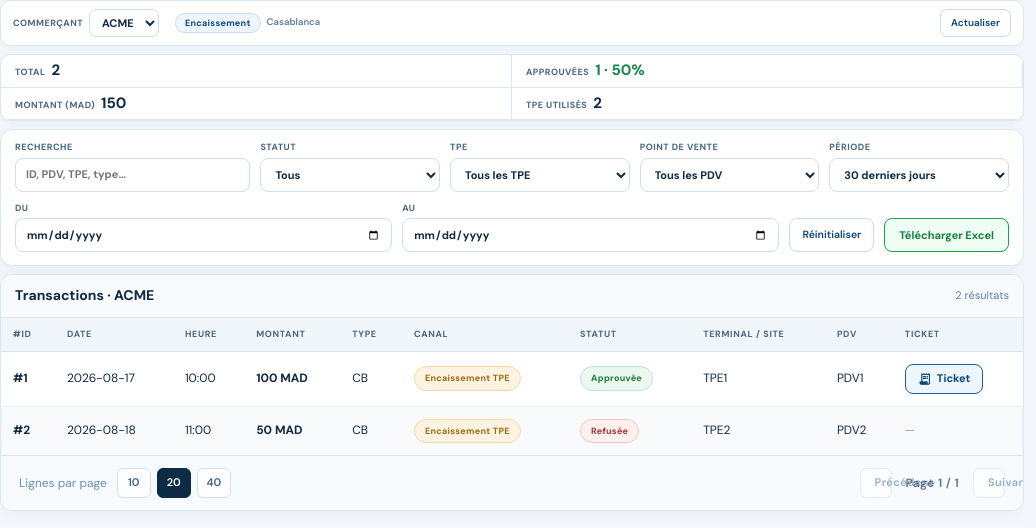
SupervisorTransactionsPage › filtre par recherche texte et par statut
The width and height of the screenshot is (1036, 528).
Expected: the text "#1" is shown, [13, 370, 28, 386]
Type "TPE1" into the field with placeholder "ID, PDV, TPE, type…" at (133, 175), box [15, 158, 250, 192]
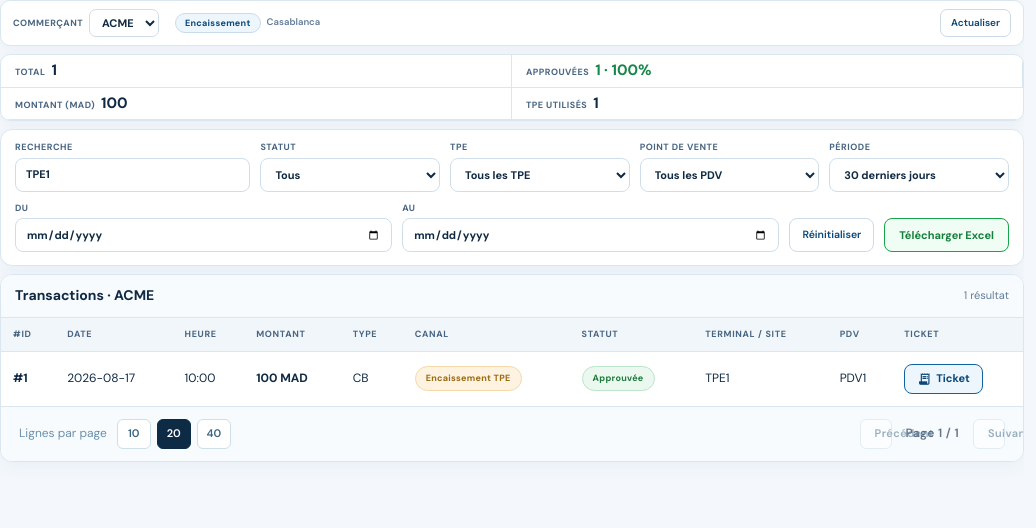
Expected: the text "#1" is shown, [13, 370, 28, 386]
Result: the text "#2" is gone
Clear the field with placeholder "ID, PDV, TPE, type…" at (133, 175), box [15, 158, 250, 192]
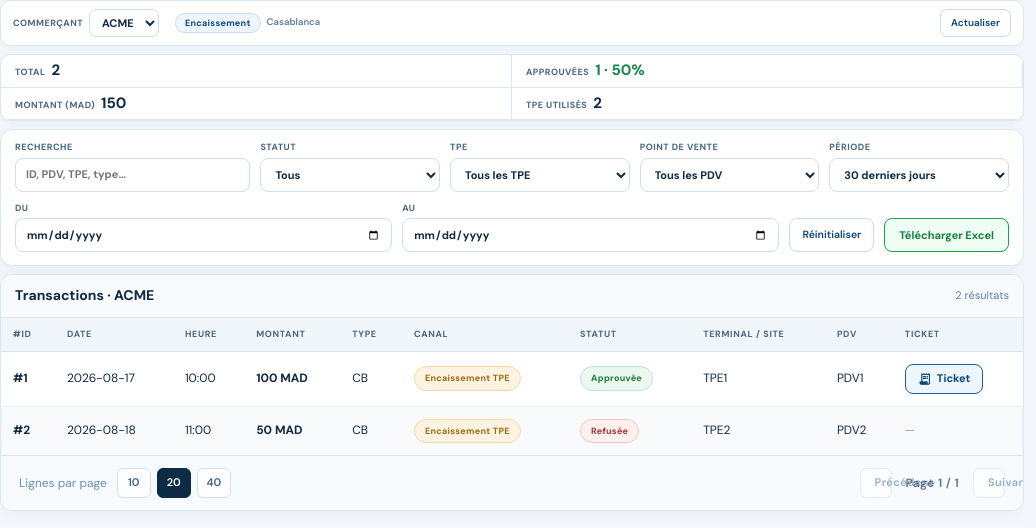
Select "Refusée" in the dropdown labelled "Statut" at (350, 175), box [260, 158, 440, 192]
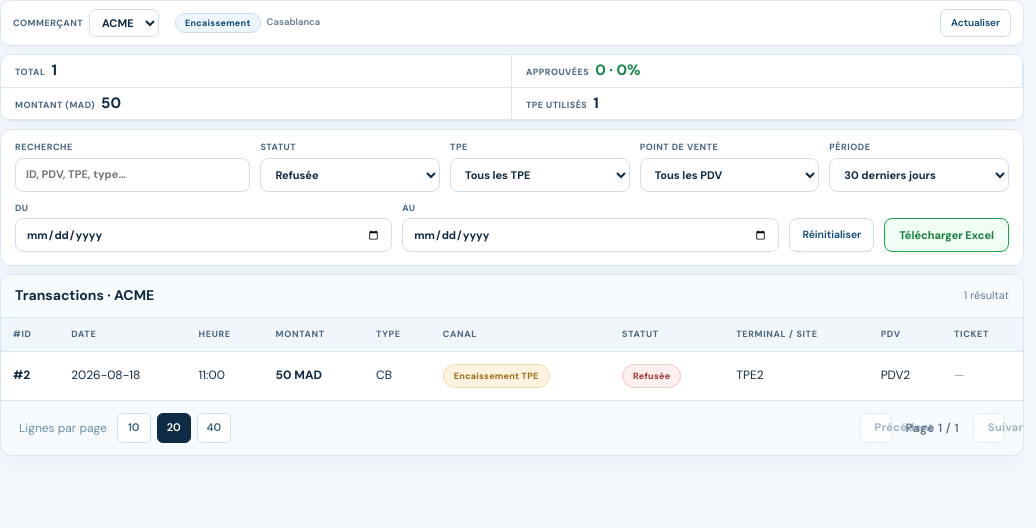
Result: the text "#2" is shown at [13, 368, 30, 384]
Result: the text "#1" is gone
